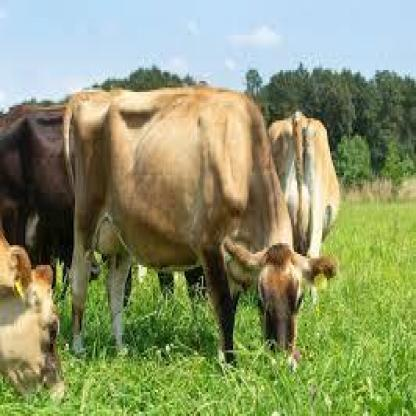cow: (66, 87, 338, 378), (1, 91, 102, 292), (266, 108, 341, 306), (0, 218, 64, 406)
